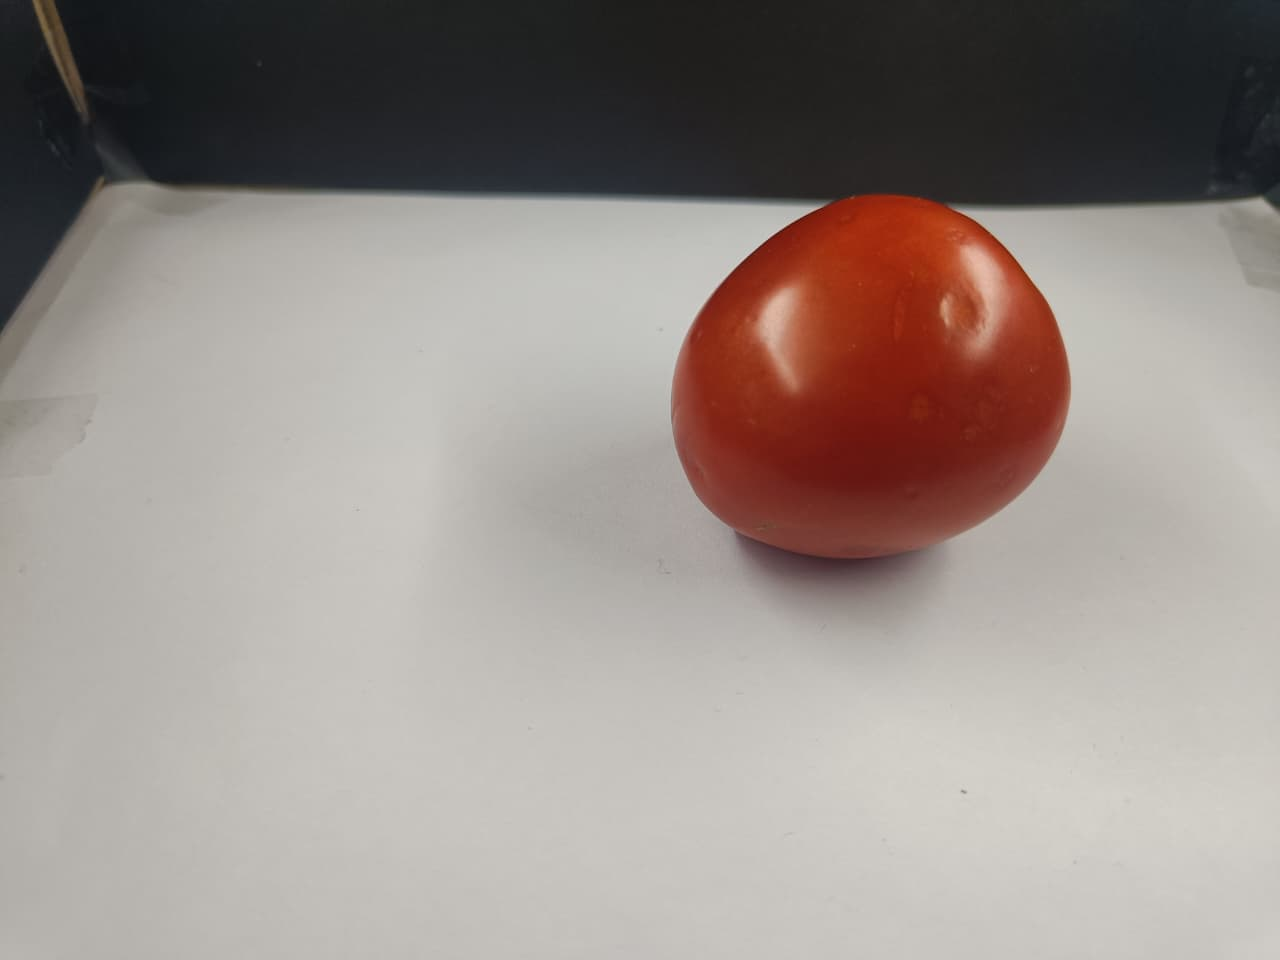ripe: (668, 202, 1072, 573)
